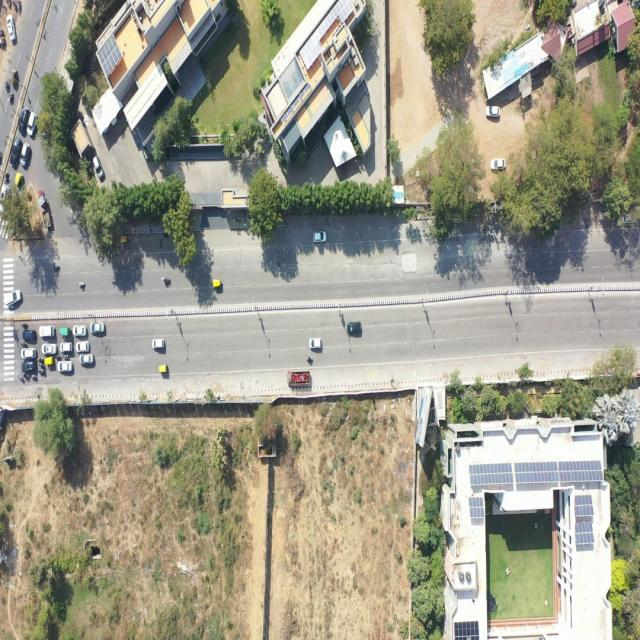3W: (14, 170, 26, 193), (10, 65, 20, 88), (118, 234, 132, 248), (210, 278, 224, 292), (58, 324, 71, 337), (157, 362, 169, 376), (44, 354, 55, 366)
Cars: (91, 154, 107, 182), (8, 137, 22, 169), (618, 206, 638, 226), (484, 101, 501, 124), (2, 289, 23, 307), (488, 154, 507, 173), (27, 111, 39, 140), (16, 106, 28, 135), (20, 143, 32, 171), (7, 14, 18, 43), (347, 318, 362, 338), (1, 184, 10, 217), (311, 228, 328, 244), (308, 335, 324, 351), (38, 325, 56, 338), (149, 336, 166, 349), (56, 361, 74, 373), (60, 339, 74, 354), (89, 321, 105, 334), (42, 342, 58, 355), (20, 348, 37, 360), (79, 353, 94, 366), (72, 324, 88, 336), (22, 360, 38, 372), (22, 330, 37, 341), (75, 341, 91, 351)
M2W: (160, 273, 172, 286), (77, 280, 87, 290), (52, 261, 61, 272), (17, 0, 23, 15), (8, 93, 15, 105), (17, 372, 24, 384), (30, 373, 39, 381), (24, 372, 31, 382), (1, 37, 6, 50), (38, 368, 46, 376), (163, 231, 171, 239), (305, 356, 314, 363), (4, 168, 8, 182), (20, 340, 28, 347), (13, 0, 17, 13), (20, 322, 28, 328), (37, 356, 44, 362), (54, 354, 62, 359), (63, 354, 70, 359), (7, 0, 11, 8), (39, 364, 45, 367)
Truck: (36, 187, 56, 231), (285, 368, 313, 387)
